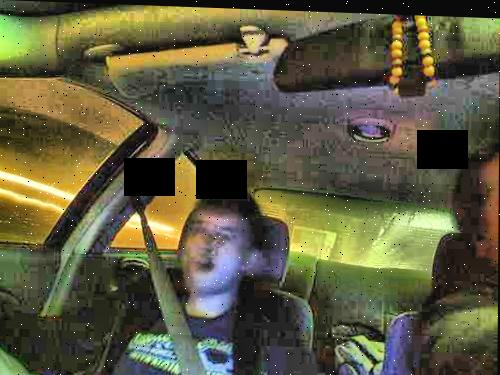seatbelt: (129, 196, 203, 360)
